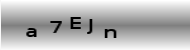7: (49, 19, 64, 34)
E: (69, 15, 82, 30)
J: (85, 17, 94, 34)
a: (26, 25, 37, 38)
n: (103, 27, 117, 39)
